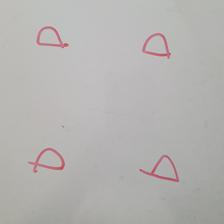ribosome-entry-site: (141, 154, 181, 183), (29, 147, 67, 173), (142, 32, 171, 59), (37, 26, 68, 49)
